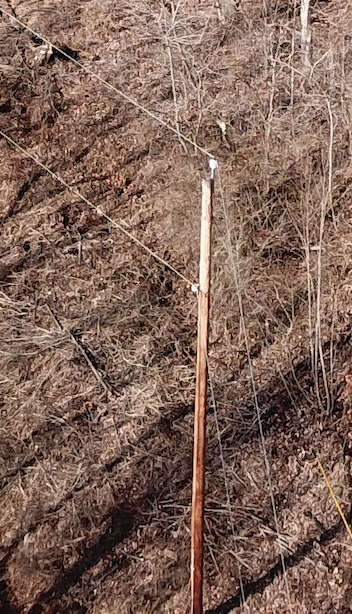pole: (171, 168, 241, 611)
